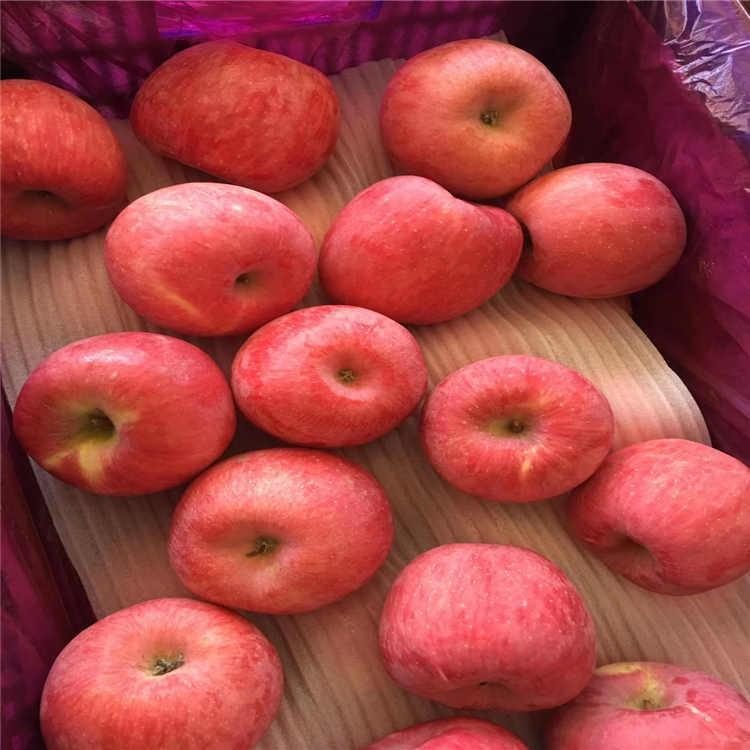apple: (371, 539, 596, 719), (168, 446, 395, 616), (12, 330, 237, 501), (37, 594, 284, 748), (105, 179, 315, 340), (126, 38, 341, 195), (377, 36, 572, 200), (319, 173, 519, 326), (416, 353, 613, 505), (563, 438, 749, 597), (233, 306, 429, 451), (505, 155, 690, 303), (1, 76, 128, 242), (535, 663, 749, 750)
